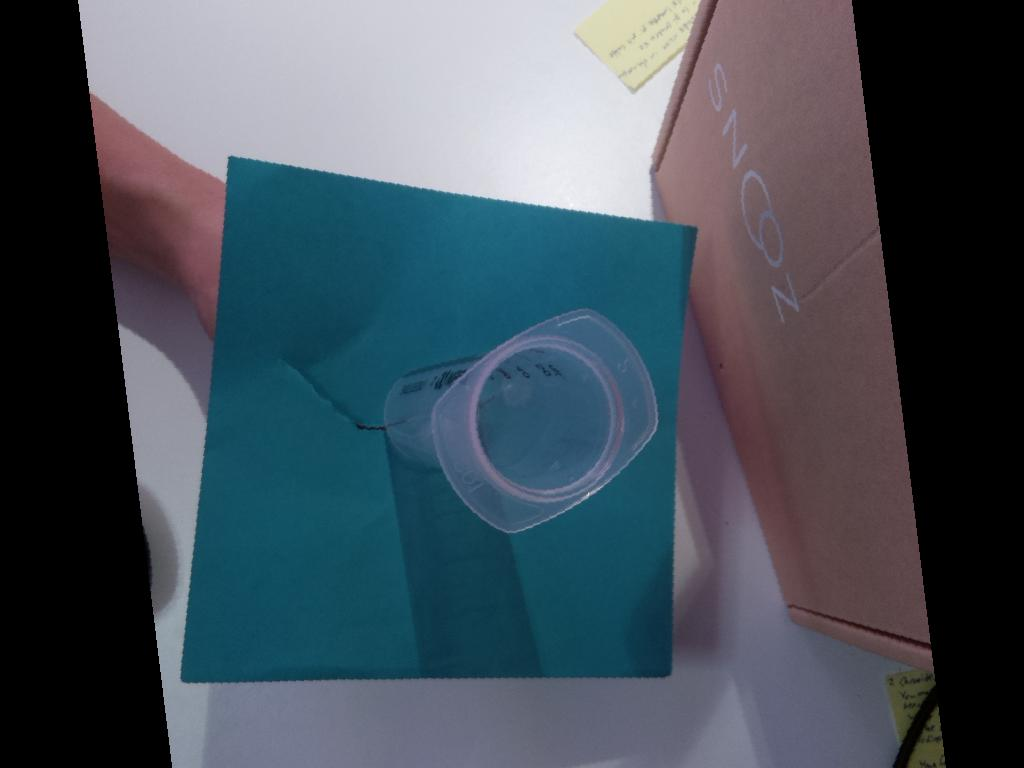clean: (432, 307, 660, 536)
